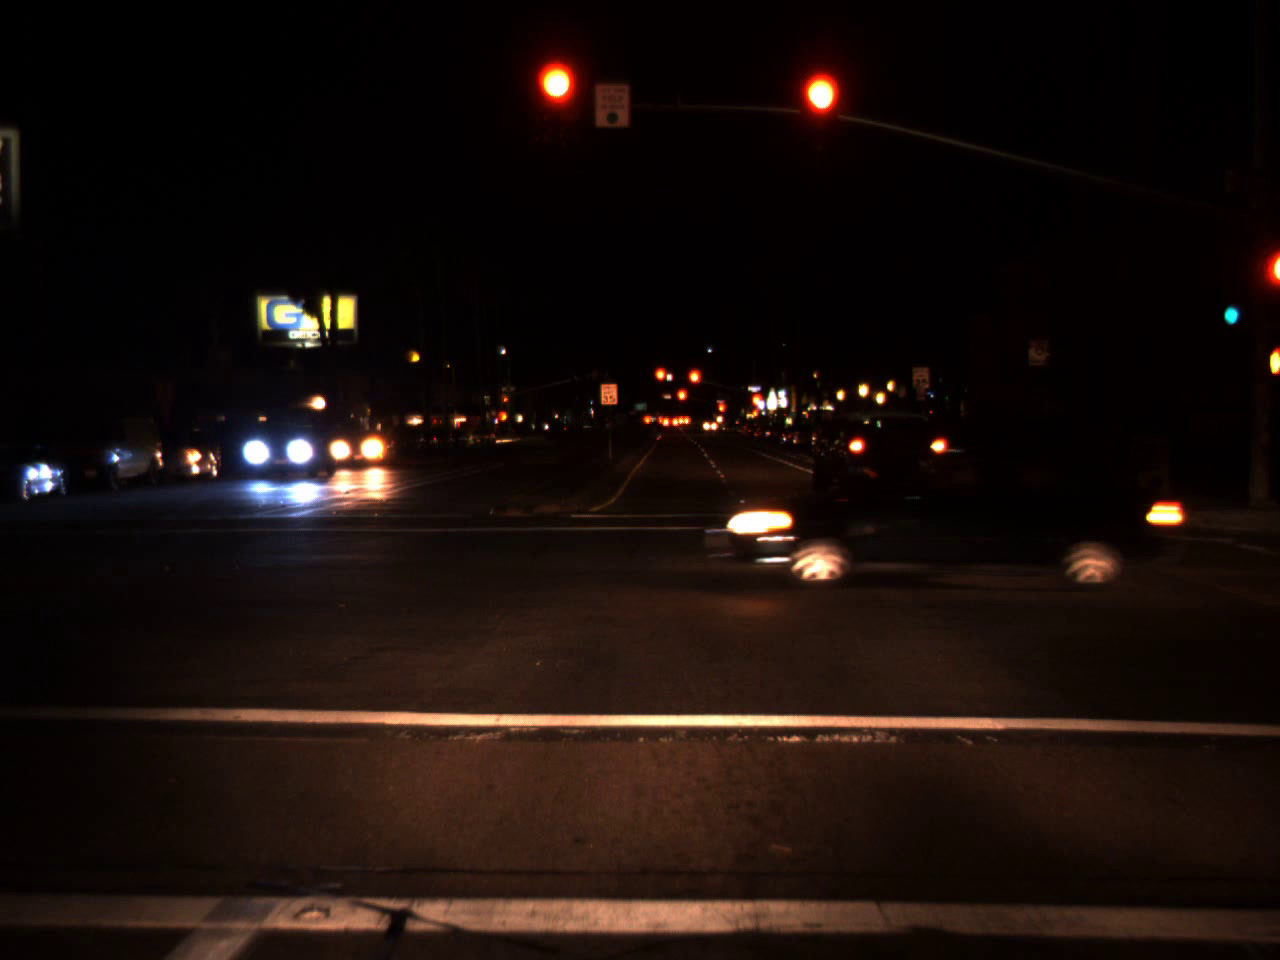stop: (538, 63, 577, 141), (802, 73, 838, 151), (686, 367, 702, 399), (674, 387, 689, 414), (653, 366, 666, 395), (749, 392, 762, 419), (499, 394, 511, 410), (717, 402, 726, 423)
